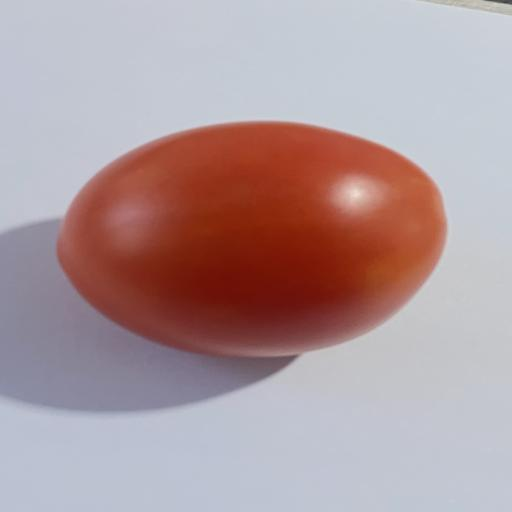ripe: (57, 122, 446, 357)
